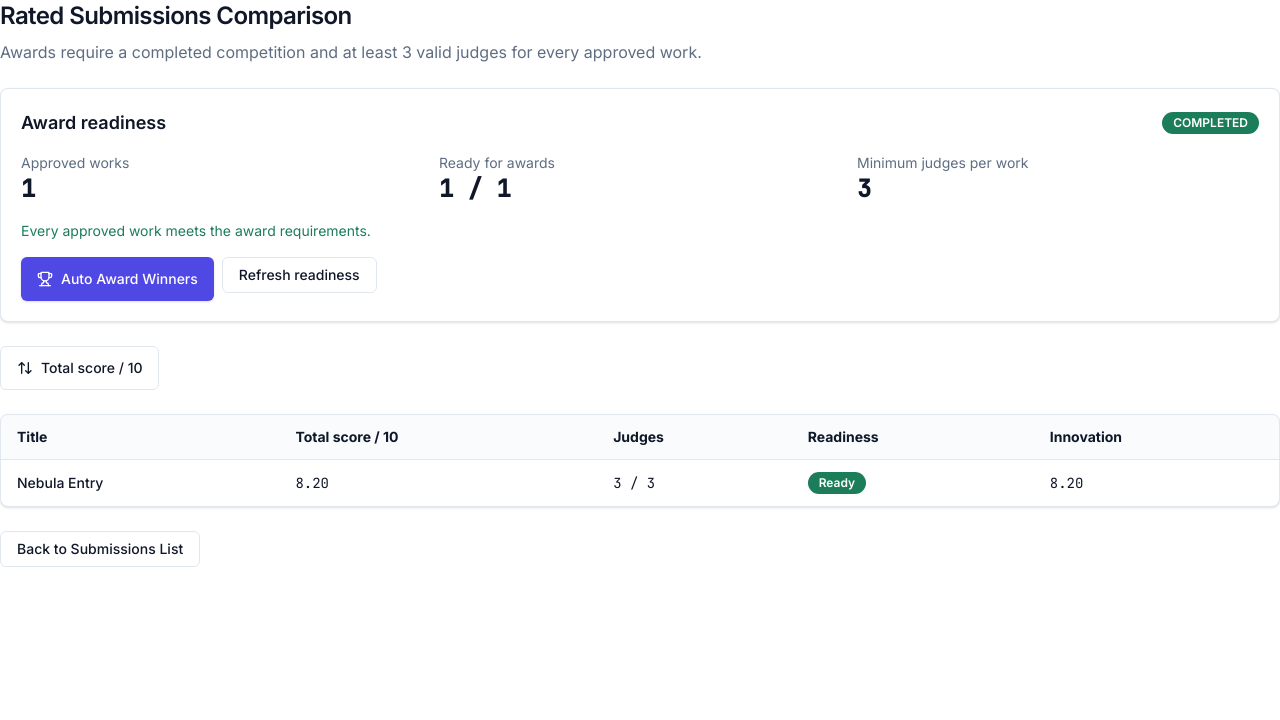
Test: requires confirmation before publishing and disables a pending award
This screenshot has width=1280, height=720.
Click the button "Auto Award Winners".
click(117, 279)  # box x1=21 y1=257 x2=214 y2=301
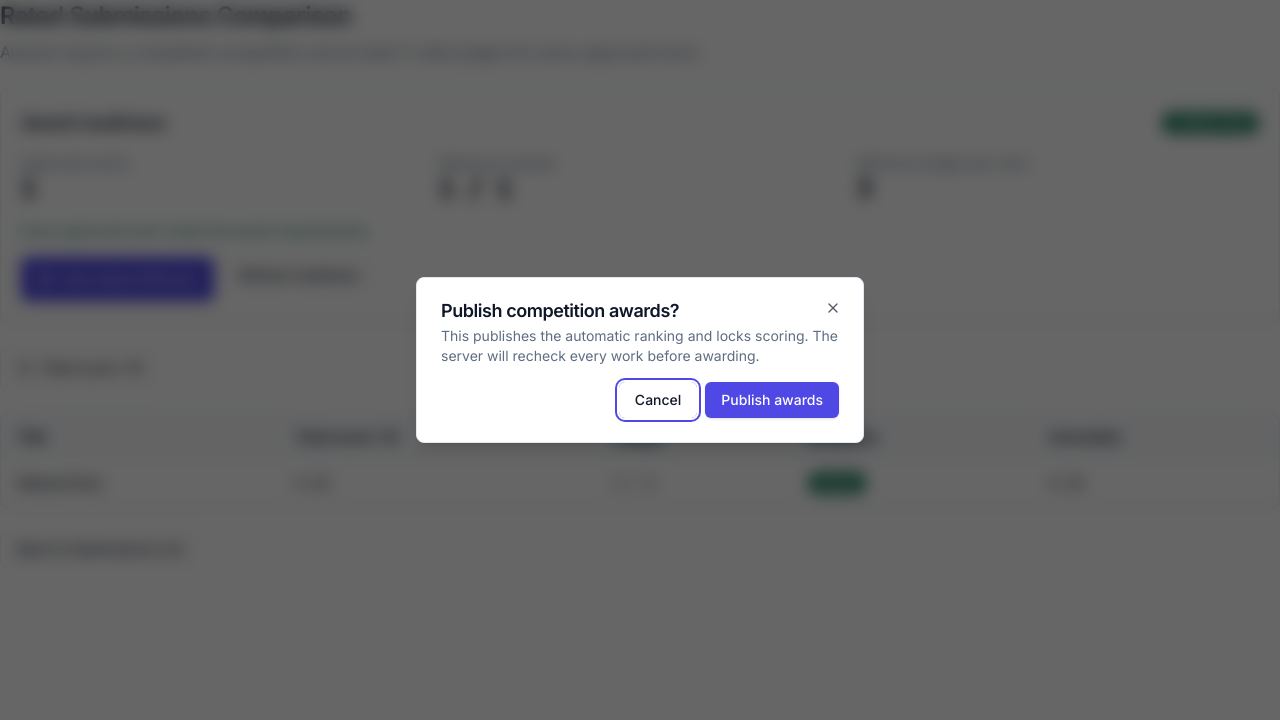
Click the button "Publish awards".
click(772, 400)  # box x1=705 y1=382 x2=839 y2=418
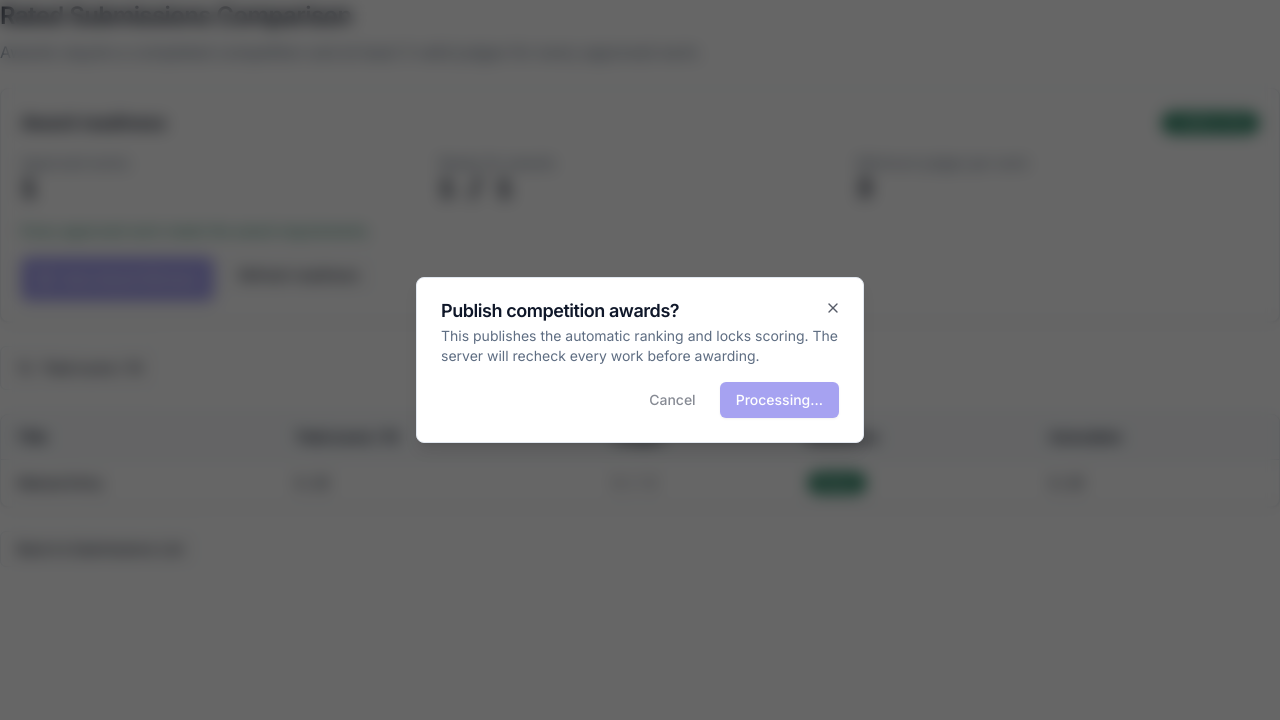
Now the button "Processing…" is disabled, box x1=720 y1=382 x2=839 y2=418
